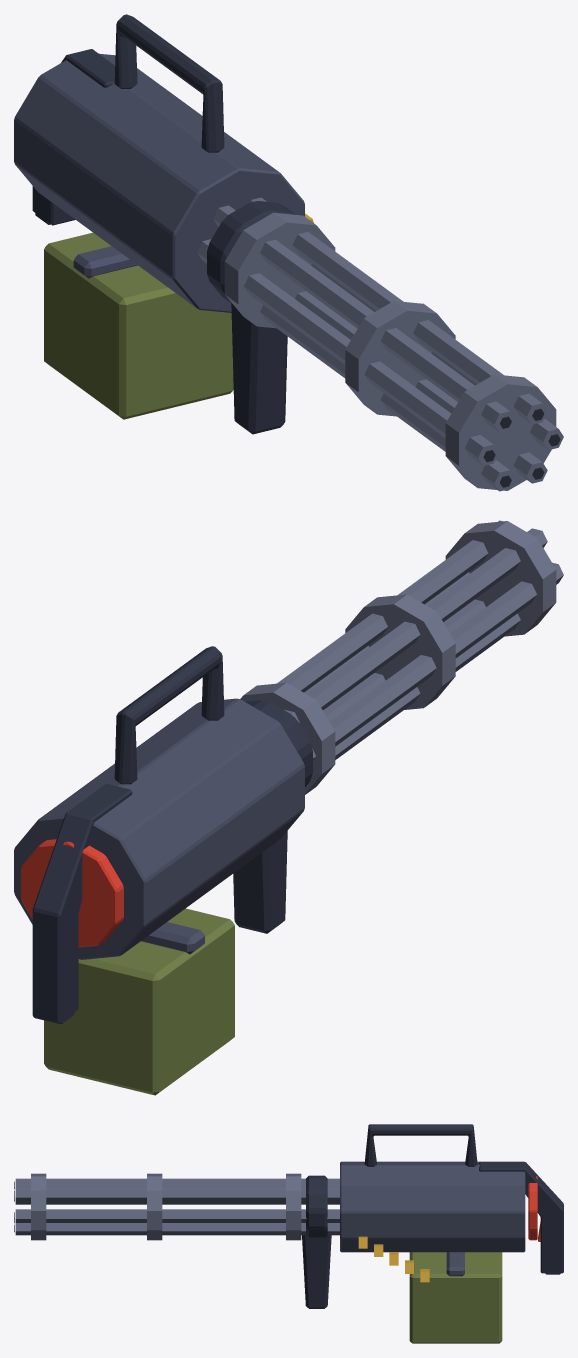
The model's file is myw_minigun.glb.
3 renders of one model, top to bottom at view 1: azimuth 30°, elevation 25°; view 2: azimuth 150°, elevation 25°; view 3: azimuth 270°, elevation 25°, orthographic. The views are drawn at different scales.
Visible parts, largest first — view 1: Body, Barrels, AmmoBox, Grip; view 2: Body, Barrels, AmmoBox, Grip; view 3: Body, Barrels, AmmoBox, Grip, Belt.
Boxes of the visible parts, box(x1,y1,x2,y2) form: Body: box(14, 14, 304, 312); Barrels: box(197, 197, 563, 491); AmmoBox: box(44, 232, 233, 419); Grip: box(207, 201, 295, 434); Body: box(14, 646, 304, 1024); Barrels: box(240, 520, 563, 794); AmmoBox: box(44, 908, 234, 1095); Grip: box(233, 700, 312, 933); Body: box(340, 1124, 563, 1274); Barrels: box(14, 1173, 339, 1240); AmmoBox: box(409, 1252, 502, 1343); Grip: box(302, 1175, 331, 1308); Belt: box(358, 1236, 429, 1282).
Bounding box in the file's own units: 0.6913 × 1.46 × 3.56.
